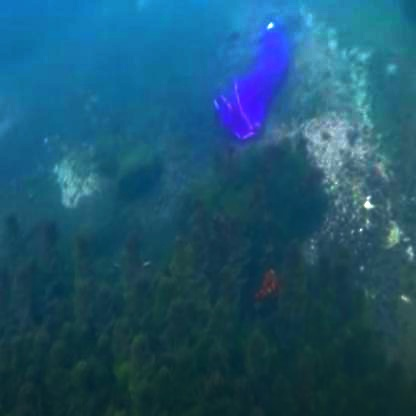plastic: (217, 20, 304, 154)
